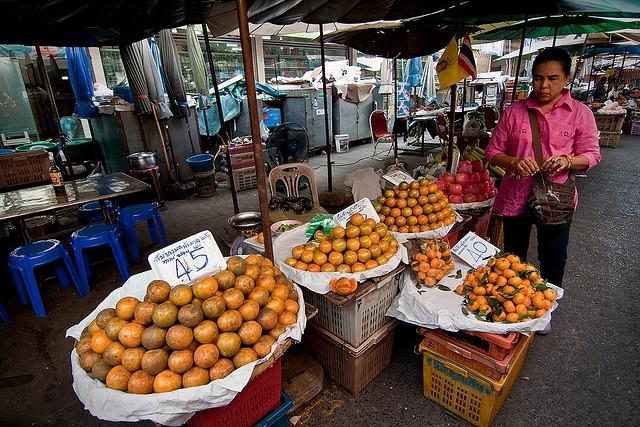orange: (166, 324, 193, 350), (118, 322, 145, 348), (140, 326, 167, 350), (193, 320, 219, 344), (255, 308, 278, 331), (237, 299, 260, 321), (495, 258, 510, 271), (368, 244, 381, 258), (319, 240, 332, 254), (532, 296, 546, 308), (468, 298, 480, 312), (504, 300, 516, 314), (542, 290, 556, 302), (479, 304, 492, 316), (508, 275, 522, 286), (524, 288, 536, 300), (368, 231, 379, 244), (506, 254, 520, 264), (502, 269, 516, 279), (476, 295, 488, 306), (515, 304, 527, 315), (506, 312, 519, 322), (424, 276, 437, 286), (518, 284, 528, 296), (456, 285, 468, 295), (502, 286, 516, 294), (430, 258, 440, 269), (432, 202, 442, 213), (386, 197, 396, 208), (488, 296, 497, 308), (402, 207, 412, 217), (496, 276, 506, 286), (471, 279, 482, 288), (494, 266, 503, 276), (544, 299, 552, 310), (528, 272, 537, 281), (426, 250, 436, 258), (520, 316, 532, 322), (414, 254, 422, 262), (442, 241, 448, 250), (476, 266, 484, 272), (324, 252, 328, 256), (522, 263, 527, 266)
